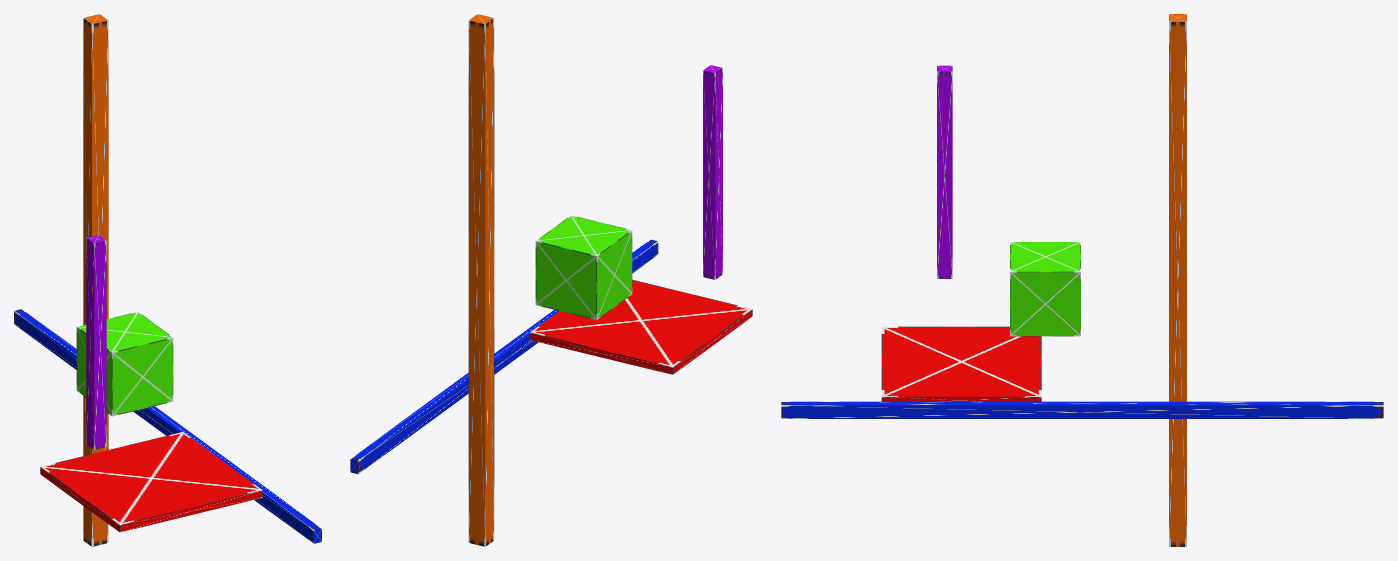
The model's file is SM_Deccer_Cubes_Merged_Texture_Atlas.gltf.
The picture shows the model from 3 angles, left to right: view 1: azimuth 30°, elevation 25°; view 2: azimuth 150°, elevation 25°; view 3: azimuth 270°, elevation 25°; orthographic projection.
Visible parts, largest first — view 1: Cube; view 2: Cube; view 3: Cube.
Part boxes in pixels (<box>): Cube: <box>14,14,321,546</box>; Cube: <box>350,14,752,546</box>; Cube: <box>781,14,1383,546</box>.
Size of the model in its own units: 4.97 by 16.3 by 16.96.
Materials: 1 (1 with a texture image).
